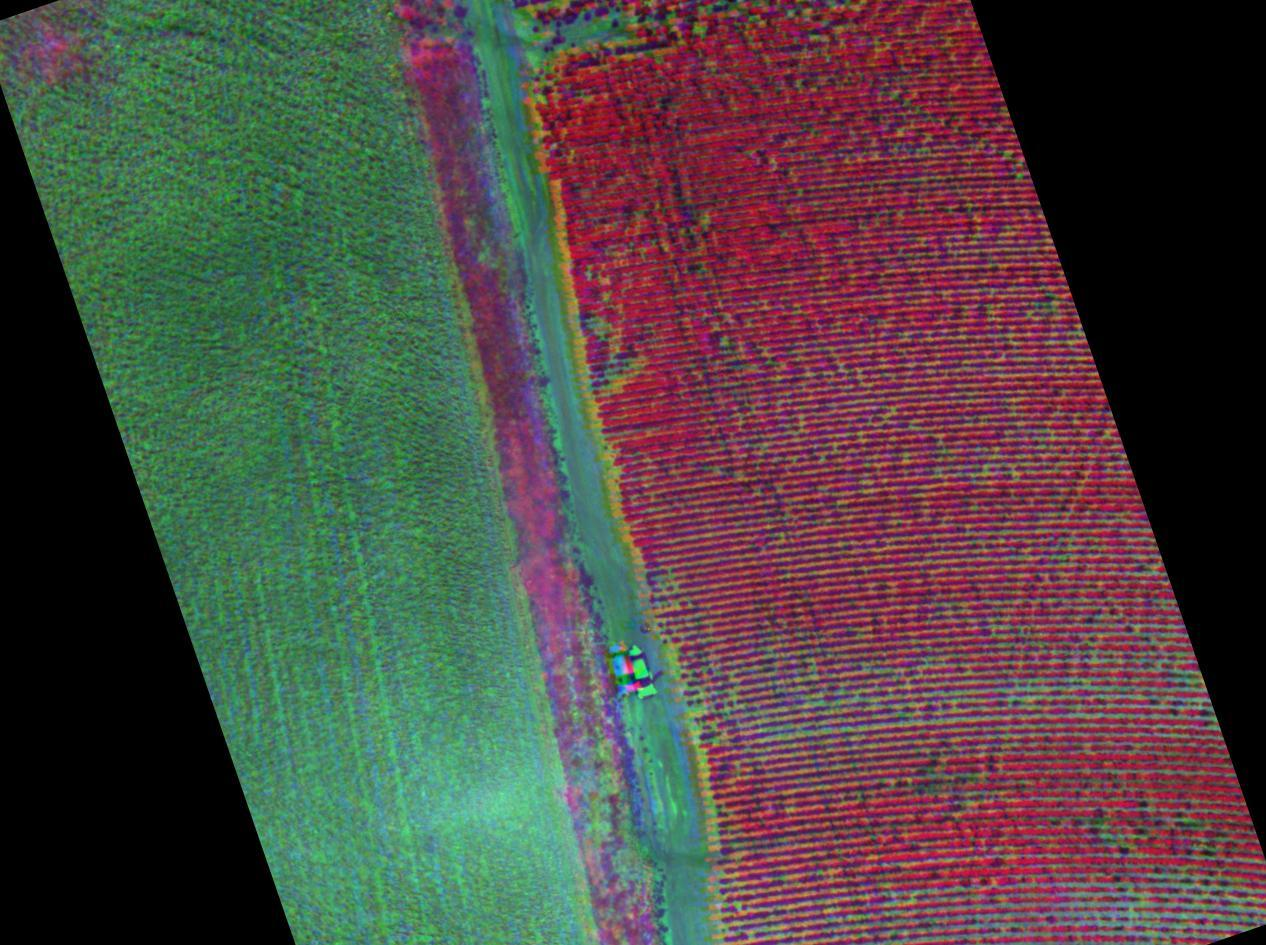dc: (518, 0, 706, 96), (675, 640, 790, 757), (572, 281, 651, 410), (911, 726, 999, 833)
